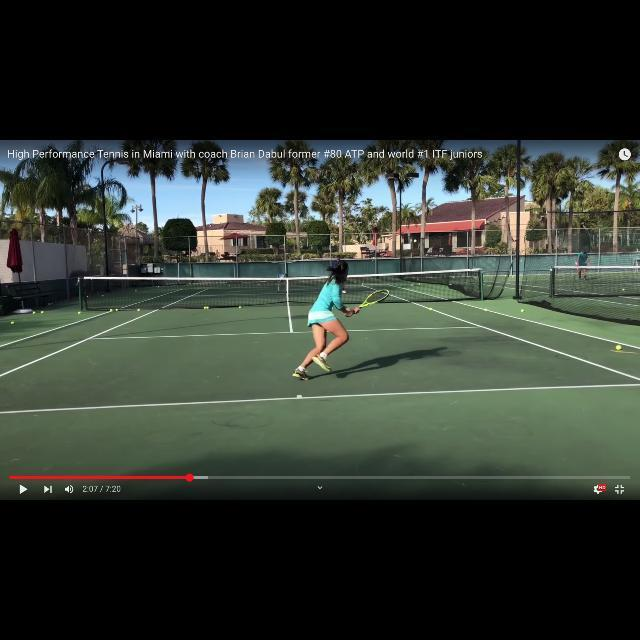tennis-ball: (615, 345, 621, 350), (10, 322, 14, 325), (137, 309, 140, 312), (521, 309, 524, 312), (41, 311, 44, 314), (33, 311, 36, 314), (78, 312, 81, 315), (239, 306, 241, 309), (485, 309, 488, 311), (110, 309, 113, 311), (115, 309, 118, 311), (204, 306, 206, 308), (206, 306, 208, 308), (429, 308, 431, 310)
